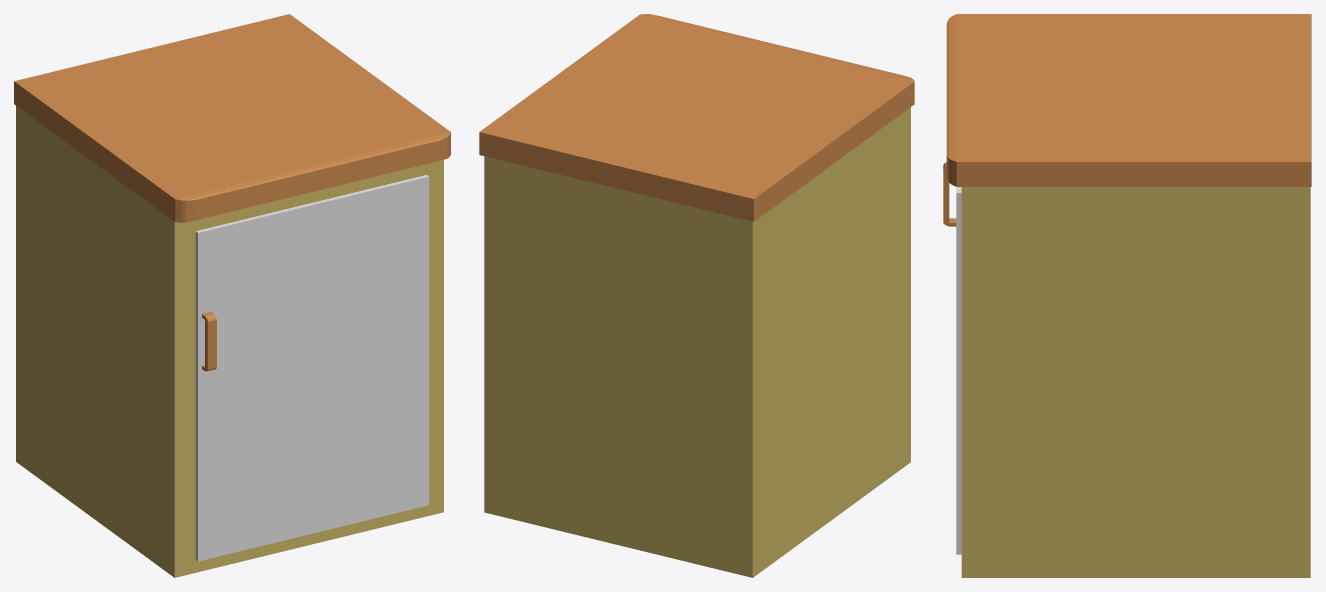
Rendered from Counter_kitchen___.fbx.
3 views of the same model, side by side, from view 1: azimuth 30°, elevation 25°; view 2: azimuth 150°, elevation 25°; view 3: azimuth 270°, elevation 25° (orthographic). The views are drawn at different scales.
Parts seen in each view (by area): view 1: Cube.002, Cube, Cube.001, Loft05_9.001; view 2: Cube, Cube.001; view 3: Cube, Cube.001, Cube.002.
Part boxes in pixels (x1,y1,x2,y2): Cube.002: [195, 175, 429, 561]; Cube: [16, 106, 443, 577]; Cube.001: [14, 14, 450, 222]; Loft05_9.001: [202, 312, 216, 371]; Cube: [484, 107, 910, 577]; Cube.001: [479, 14, 914, 221]; Cube: [961, 187, 1310, 577]; Cube.001: [946, 14, 1311, 186]; Cube.002: [956, 187, 961, 554].
Size of the model in its own units: 201 by 265 by 211.
